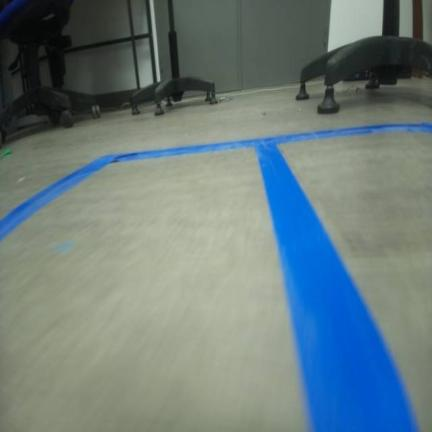place: (1, 136, 420, 431), (252, 119, 431, 431)
